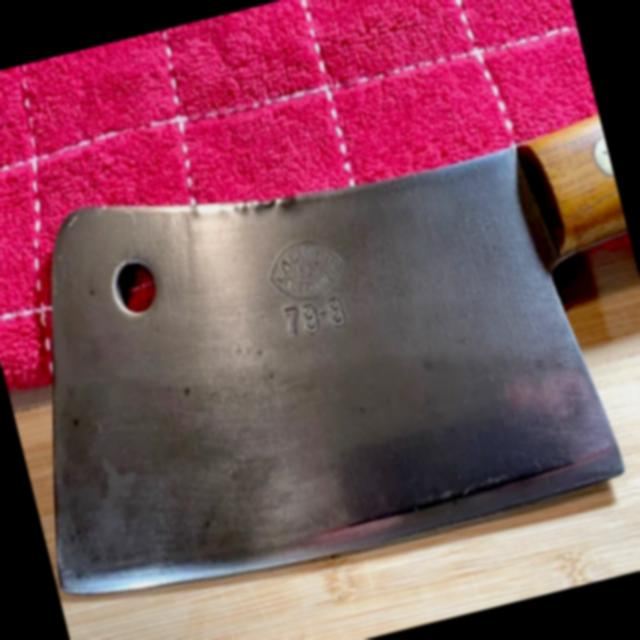cleaver: (0, 85, 640, 610)
